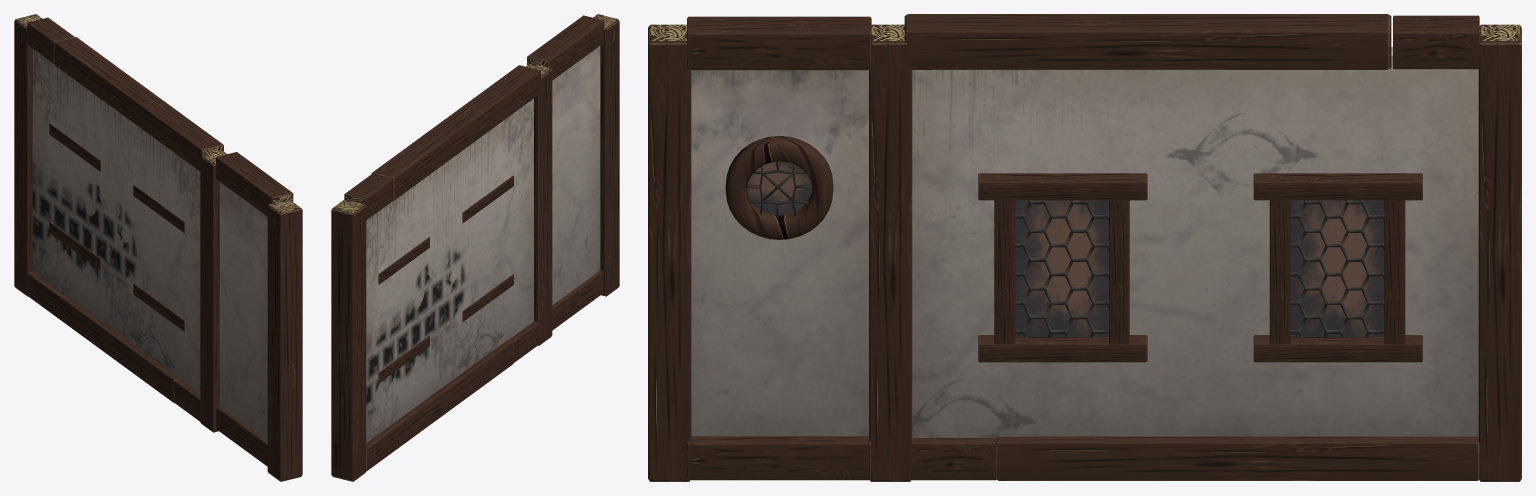
Rendered from Wall_Piece_R2.fbx.
The picture shows the model from 3 angles, left to right: view 1: azimuth 30°, elevation 25°; view 2: azimuth 150°, elevation 25°; view 3: azimuth 270°, elevation 25°; orthographic projection. The views are drawn at different scales.
Parts seen in each view (by area): view 1: Wall_20.004; view 2: Wall_20.004; view 3: Wall_20.004.
Part boxes in pixels (x1=…): Wall_20.004: x1=14, y1=14, x2=302, y2=481; Wall_20.004: x1=331, y1=14, x2=619, y2=481; Wall_20.004: x1=648, y1=14, x2=1521, y2=481.
Bounding box in the file's own units: 36.94 × 357 × 626.
